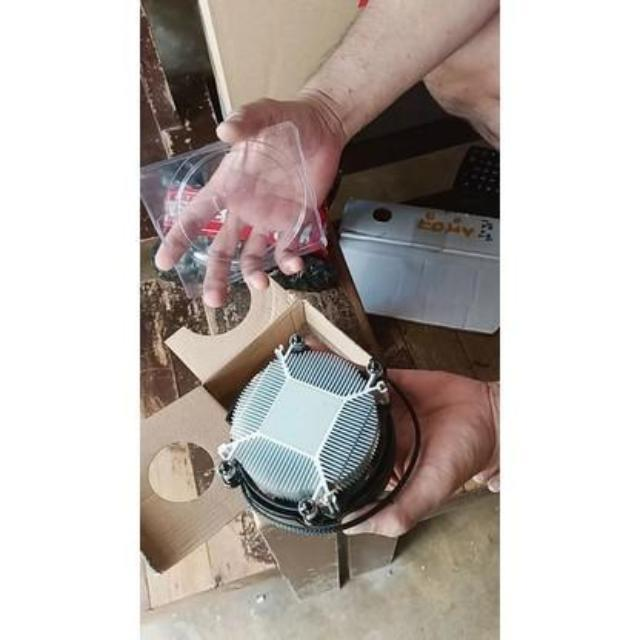CPU_Fan: (216, 332, 399, 523)
